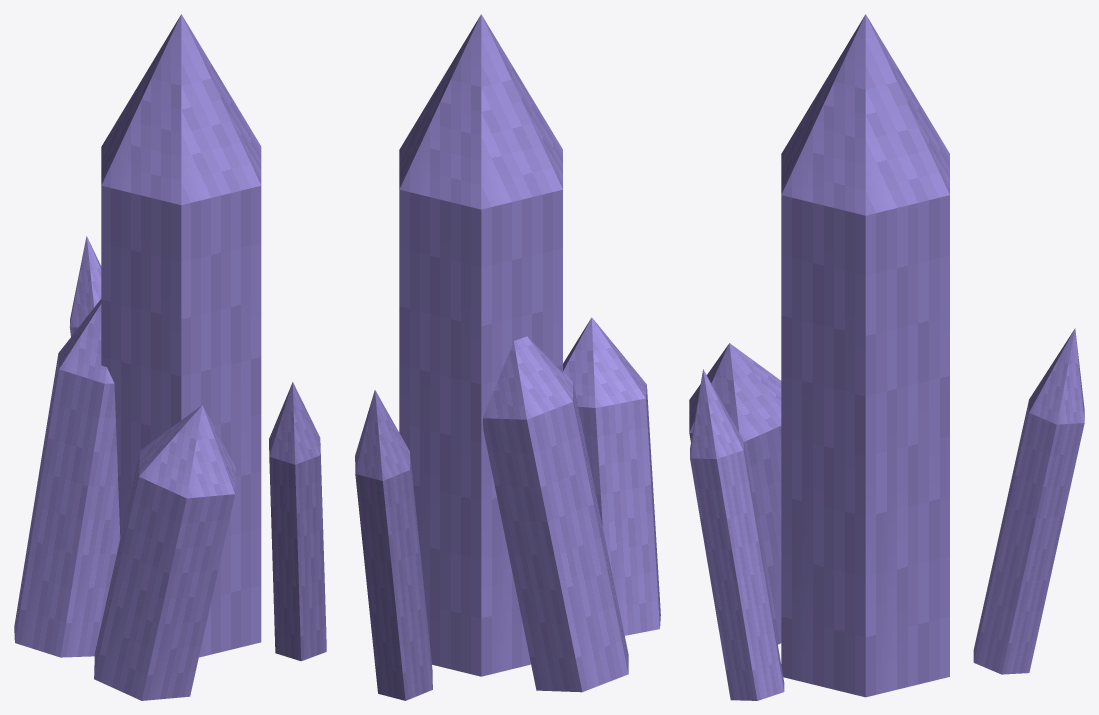
Rendered from cave-and-crystal-networks-crystal-landmark-1cf0a882.glb.
3 views of the same model, side by side, from view 1: azimuth 30°, elevation 25°; view 2: azimuth 150°, elevation 25°; view 3: azimuth 270°, elevation 25° (orthographic). The views are drawn at different scales.
Visible parts, largest first — view 1: crystal-landmark; view 2: crystal-landmark; view 3: crystal-landmark.
Boxes of the visible parts, <box> form: crystal-landmark: <box>14,14,326,700</box>; crystal-landmark: <box>355,14,660,700</box>; crystal-landmark: <box>689,14,1084,700</box>.
Bounding box in the file's own units: 1.71 × 4.06 × 2.23.
1 material, 1 textured.
